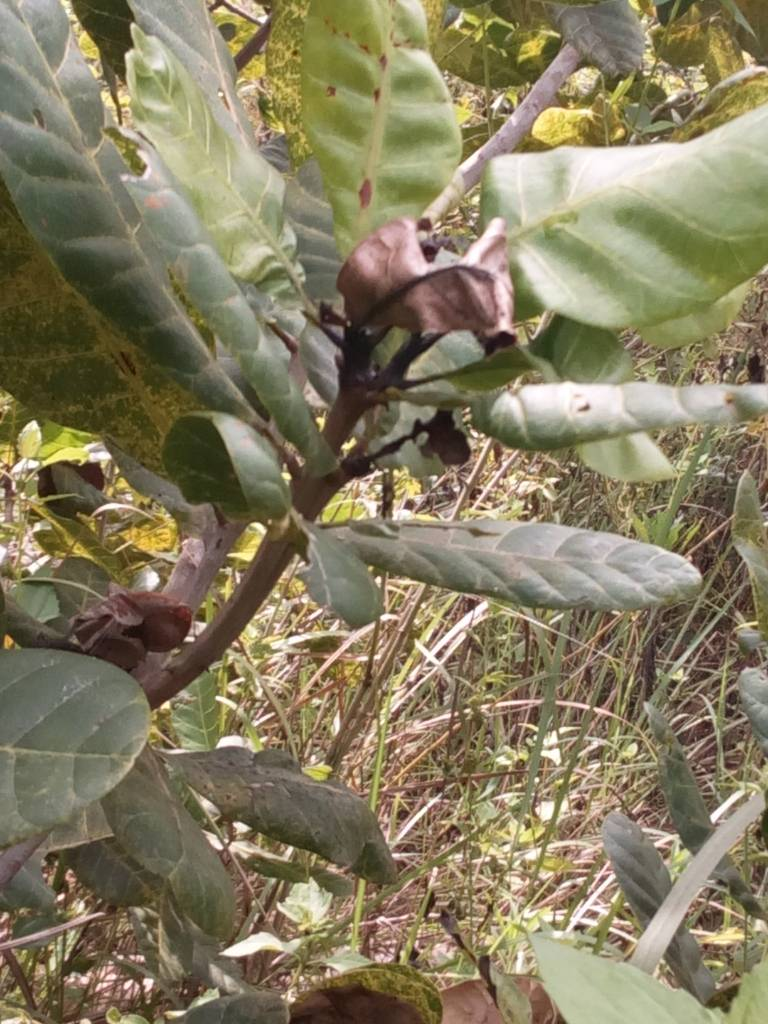Dessèchement des bourgeons: (357, 396, 494, 464)
